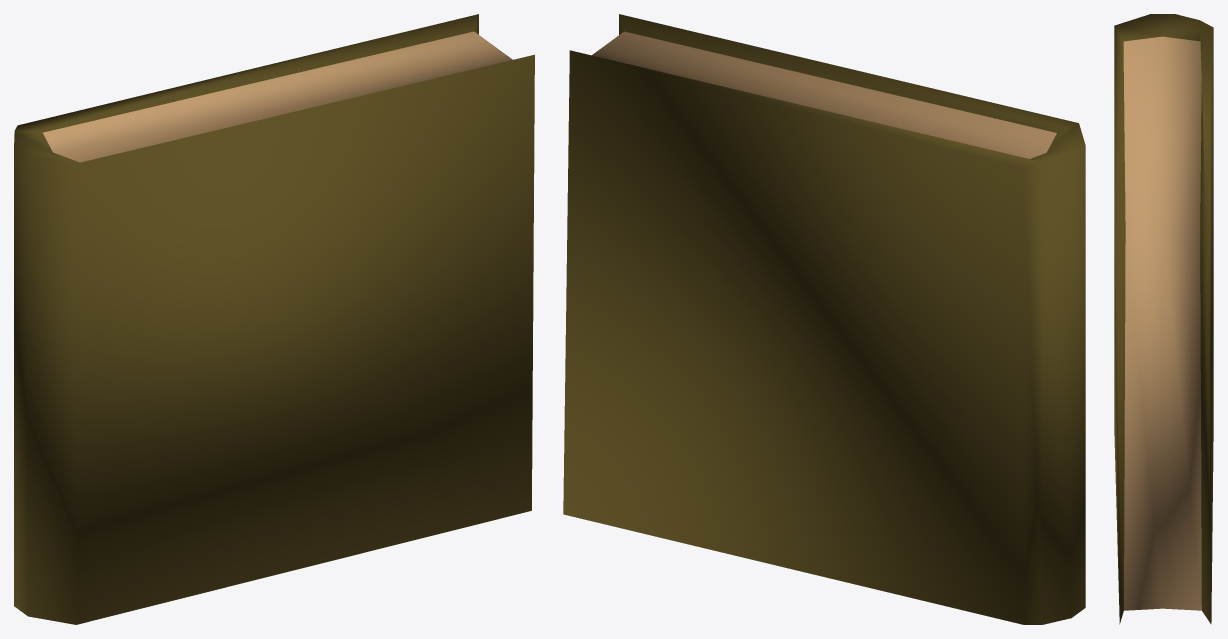
File: book004.fbx
3 views of the same model, side by side, from view 1: azimuth 30°, elevation 25°; view 2: azimuth 150°, elevation 25°; view 3: azimuth 270°, elevation 25° (orthographic). The views are drawn at different scales.
Parts seen in each view (by area): view 1: Book Variation 004; view 2: Book Variation 004; view 3: Book Variation 004.
Part boxes in pixels (x1,y1,x2,y2): Book Variation 004: (14, 14, 534, 624); Book Variation 004: (563, 14, 1085, 624); Book Variation 004: (1114, 14, 1213, 624).
Size of the model in its own units: 0.3973 by 0.3604 by 0.0804.
